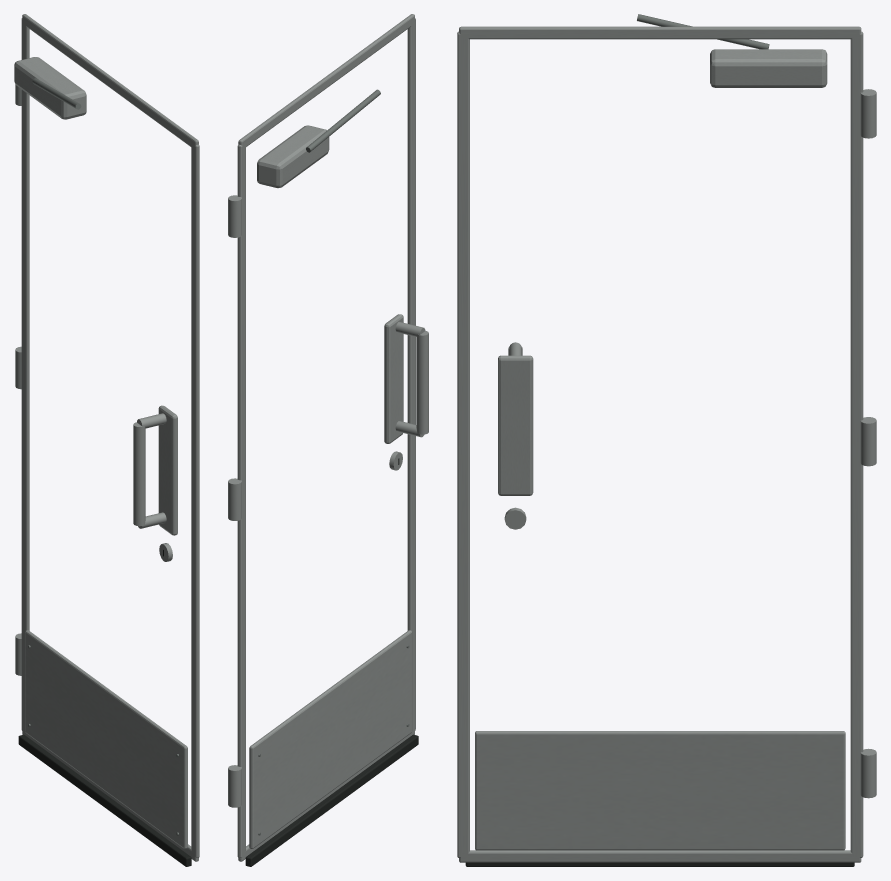
The model's file is SM_Arrival_DoorDetails_LOD1.fbx.
The picture shows the model from 3 angles, left to right: view 1: azimuth 30°, elevation 25°; view 2: azimuth 150°, elevation 25°; view 3: azimuth 270°, elevation 25°; orthographic projection. The views are drawn at different scales.
Visible parts, largest first — view 1: SM_Arrival_DoorDetails_LOD1; view 2: SM_Arrival_DoorDetails_LOD1; view 3: SM_Arrival_DoorDetails_LOD1.
Boxes of the visible parts, x1,y1,x2,y2 form: SM_Arrival_DoorDetails_LOD1: (14, 14, 199, 866); SM_Arrival_DoorDetails_LOD1: (228, 14, 428, 866); SM_Arrival_DoorDetails_LOD1: (457, 14, 876, 866).
Size of the model in its own units: 0.1549 by 0.928 by 2.05.
